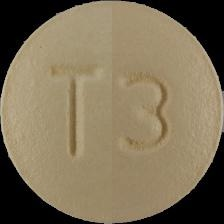0093-7691: (0, 0, 224, 224)
